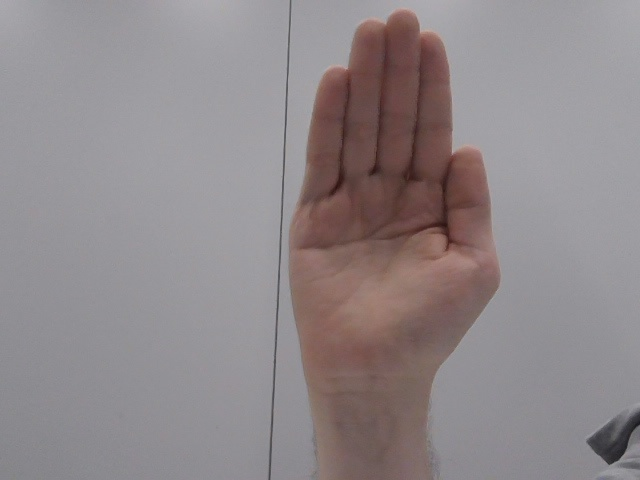nada: (283, 2, 503, 409)
